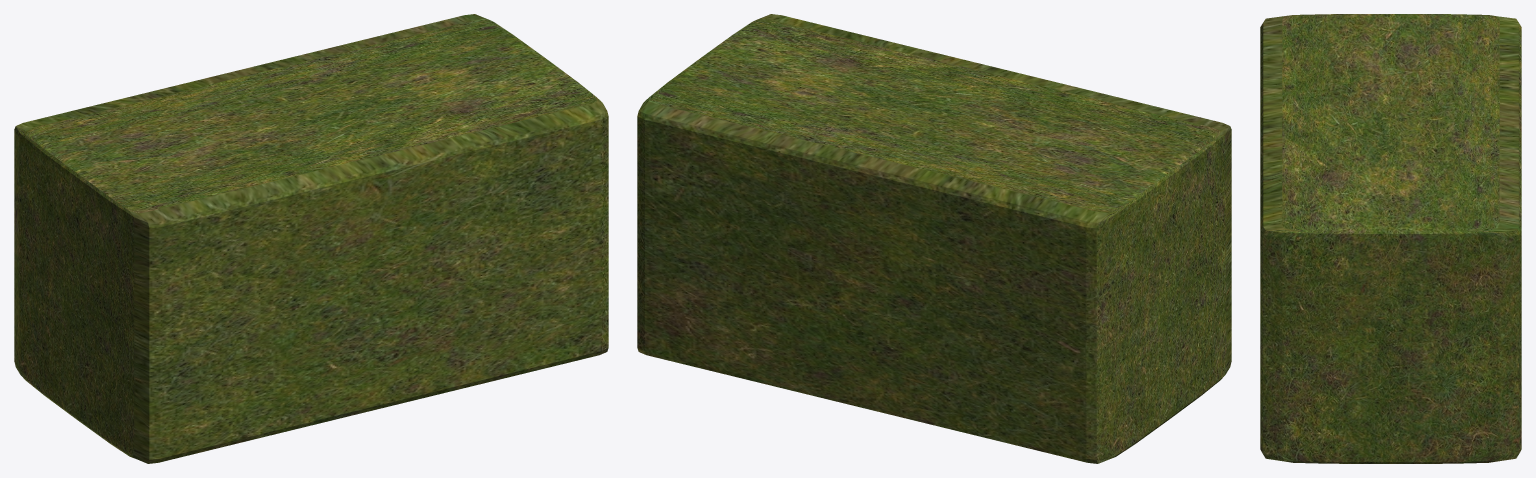
File: MuroArbusto.fbx
3 views of the same model, side by side, from view 1: azimuth 30°, elevation 25°; view 2: azimuth 150°, elevation 25°; view 3: azimuth 270°, elevation 25° (orthographic). The views are drawn at different scales.
Parts seen in each view (by area): view 1: Muro de pasto; view 2: Muro de pasto; view 3: Muro de pasto.
Part boxes in pixels (<box>): Muro de pasto: <box>14,14,608,463</box>; Muro de pasto: <box>637,14,1231,463</box>; Muro de pasto: <box>1260,14,1521,463</box>.
Bounding box in the file's own units: 400 × 201 × 202.
Materials: 1 (1 with a texture image).
